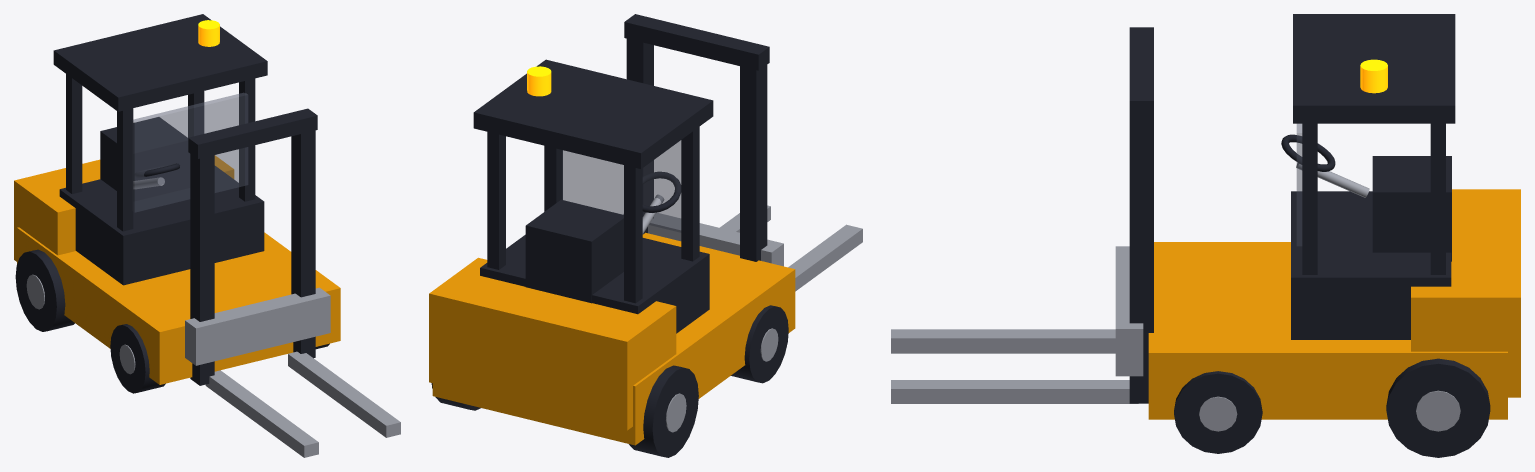
The model's file is forklift.glb.
The picture shows the model from 3 angles, left to right: view 1: azimuth 30°, elevation 25°; view 2: azimuth 150°, elevation 25°; view 3: azimuth 270°, elevation 25°; orthographic projection. The views are drawn at different scales.
Visible parts, largest first — view 1: forklift; view 2: forklift; view 3: forklift.
Boxes of the visible parts, x1,y1,x2,y2 form: forklift: (14,14,400,457); forklift: (429,14,862,457); forklift: (891,14,1520,457).
Bounding box in the file's own units: 1.89 × 2.61 × 4.12.
